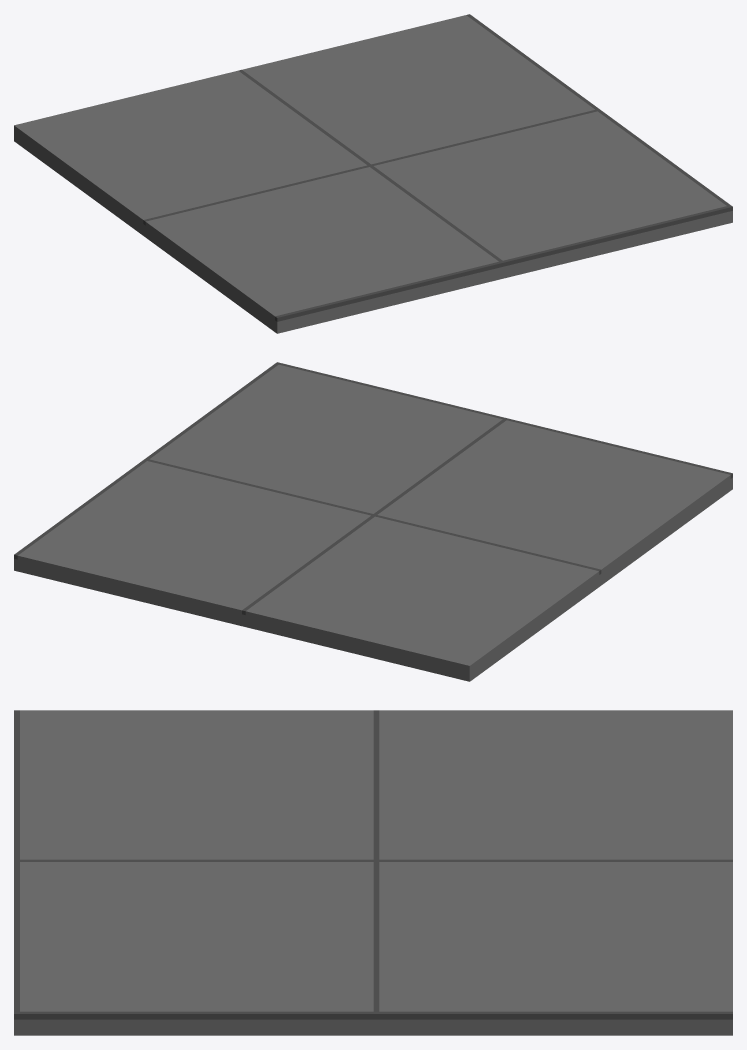
File: Suelo_1.obj
The picture shows the model from 3 angles, top to bottom: view 1: azimuth 30°, elevation 25°; view 2: azimuth 150°, elevation 25°; view 3: azimuth 270°, elevation 25°; orthographic projection. The views are drawn at different scales.
Size of the model in its own units: 12 by 0.4 by 12.
Materials: 1 (1 with a texture image).
